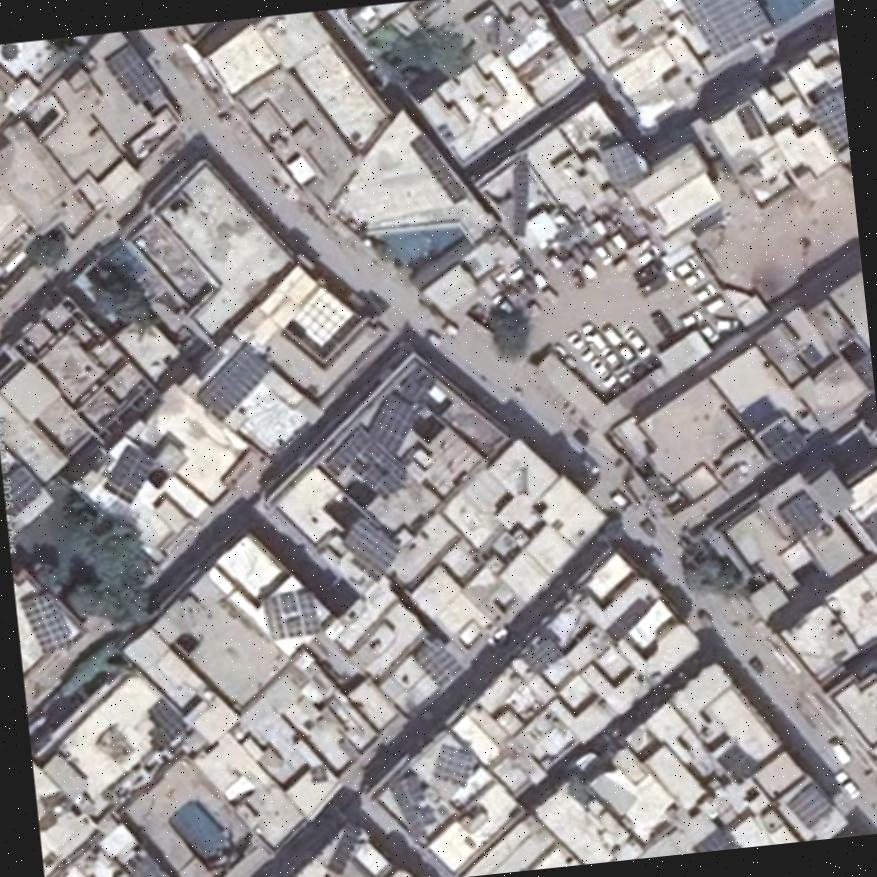Solarpanel: (325, 427, 404, 506), (192, 343, 272, 421), (365, 371, 433, 457), (679, 0, 773, 56), (411, 134, 467, 203), (343, 513, 399, 577), (107, 42, 162, 104), (21, 591, 73, 653), (100, 449, 155, 501), (134, 699, 190, 750), (806, 85, 848, 149), (268, 592, 320, 637), (415, 638, 463, 686), (4, 464, 39, 521), (762, 418, 806, 463), (326, 821, 360, 874), (779, 495, 820, 536), (432, 744, 475, 783), (513, 161, 528, 235)
